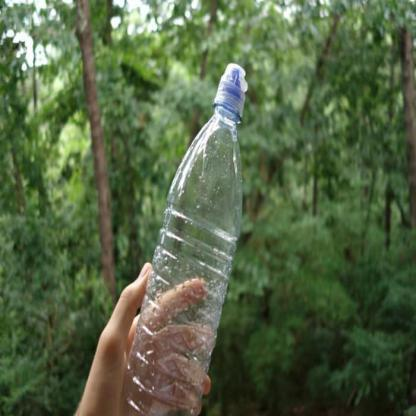bottle: (107, 54, 268, 415)
